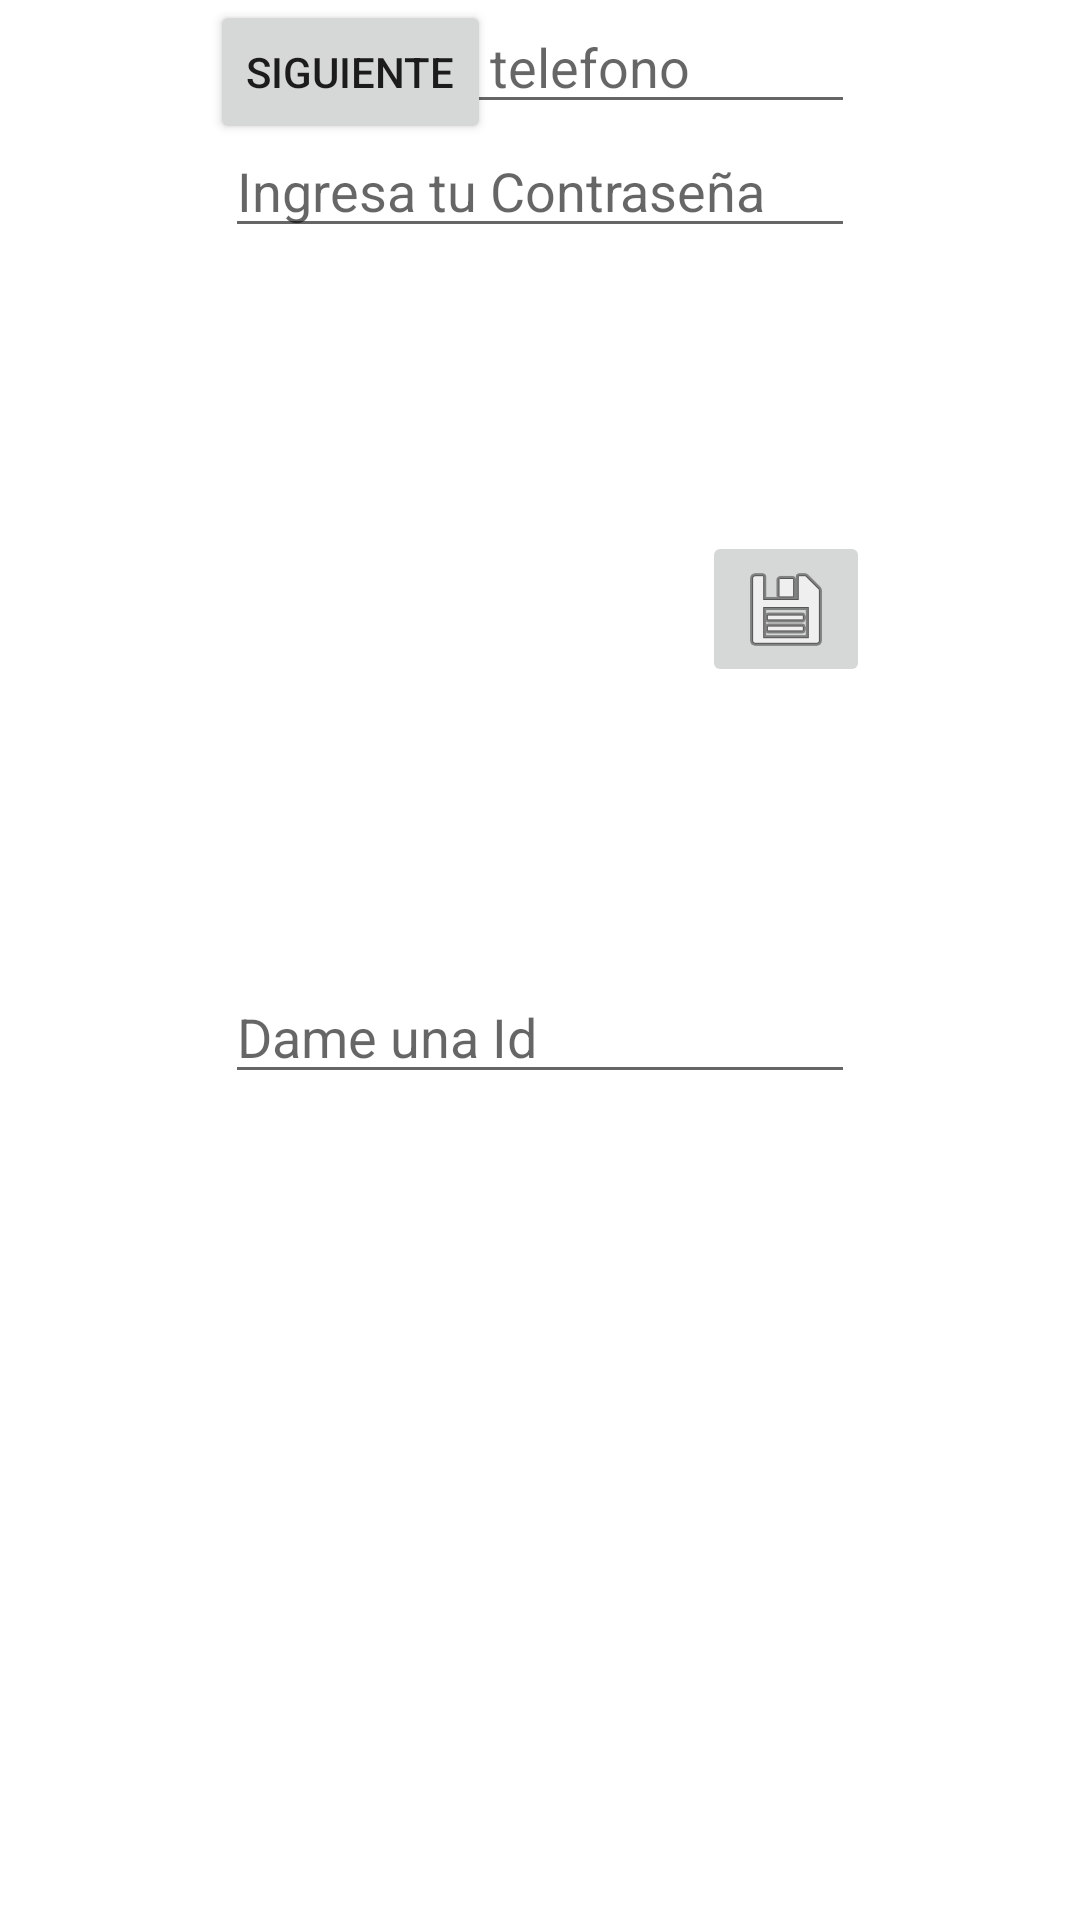

Screen size 1080x1920. Icon name, then its box in pixels as (x1, y1, x2, y2):
save: (714, 549, 858, 669)
